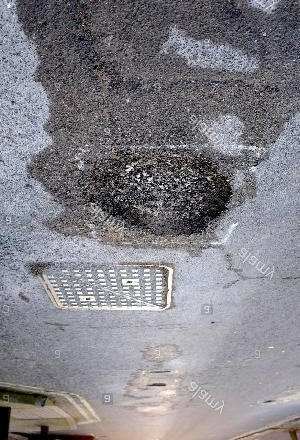pothole: (75, 144, 233, 241), (143, 381, 170, 388)
